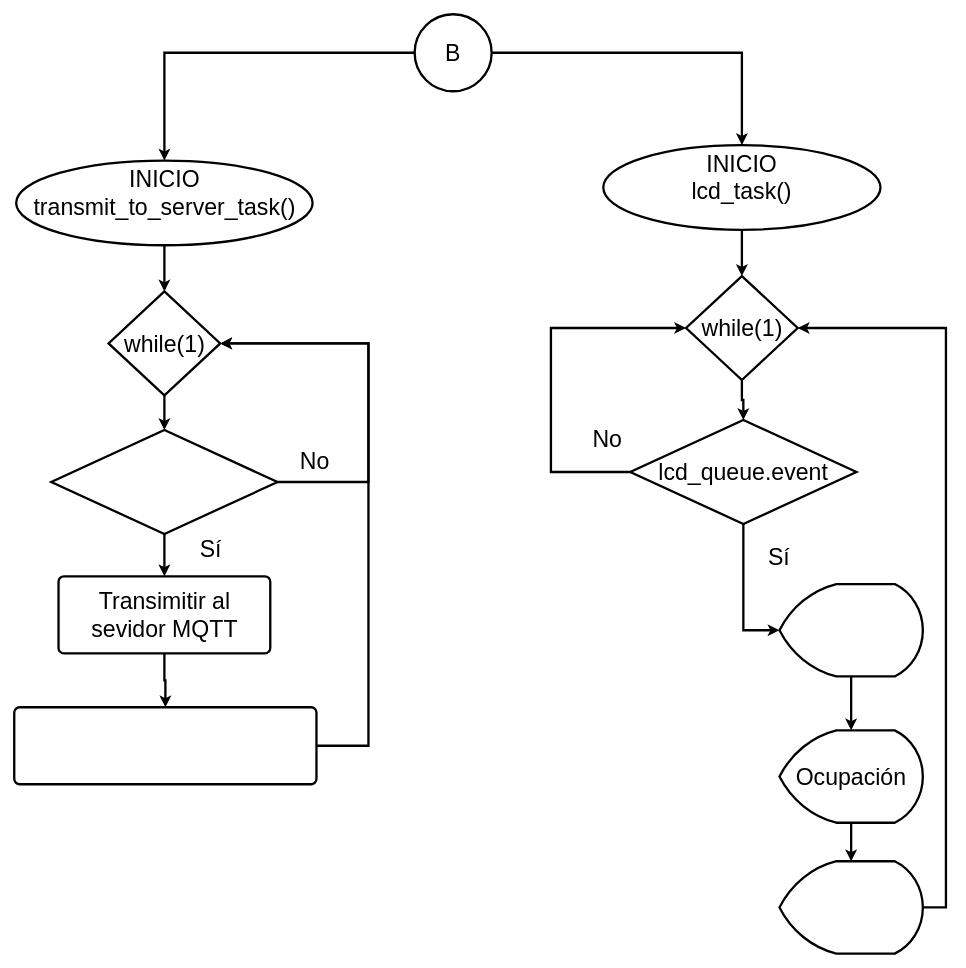
This 966x968 diagram has some shape labels left out. The box of each missing label's shape, as (x1, y1, x2, y2) in pixels:
cava_data.event: (50, 429, 278, 535)
enviar por cola lcd_queue: lcd_task(): (13, 706, 317, 785)
Estado Servidor: (778, 860, 924, 954)
Posición: (778, 583, 924, 677)
